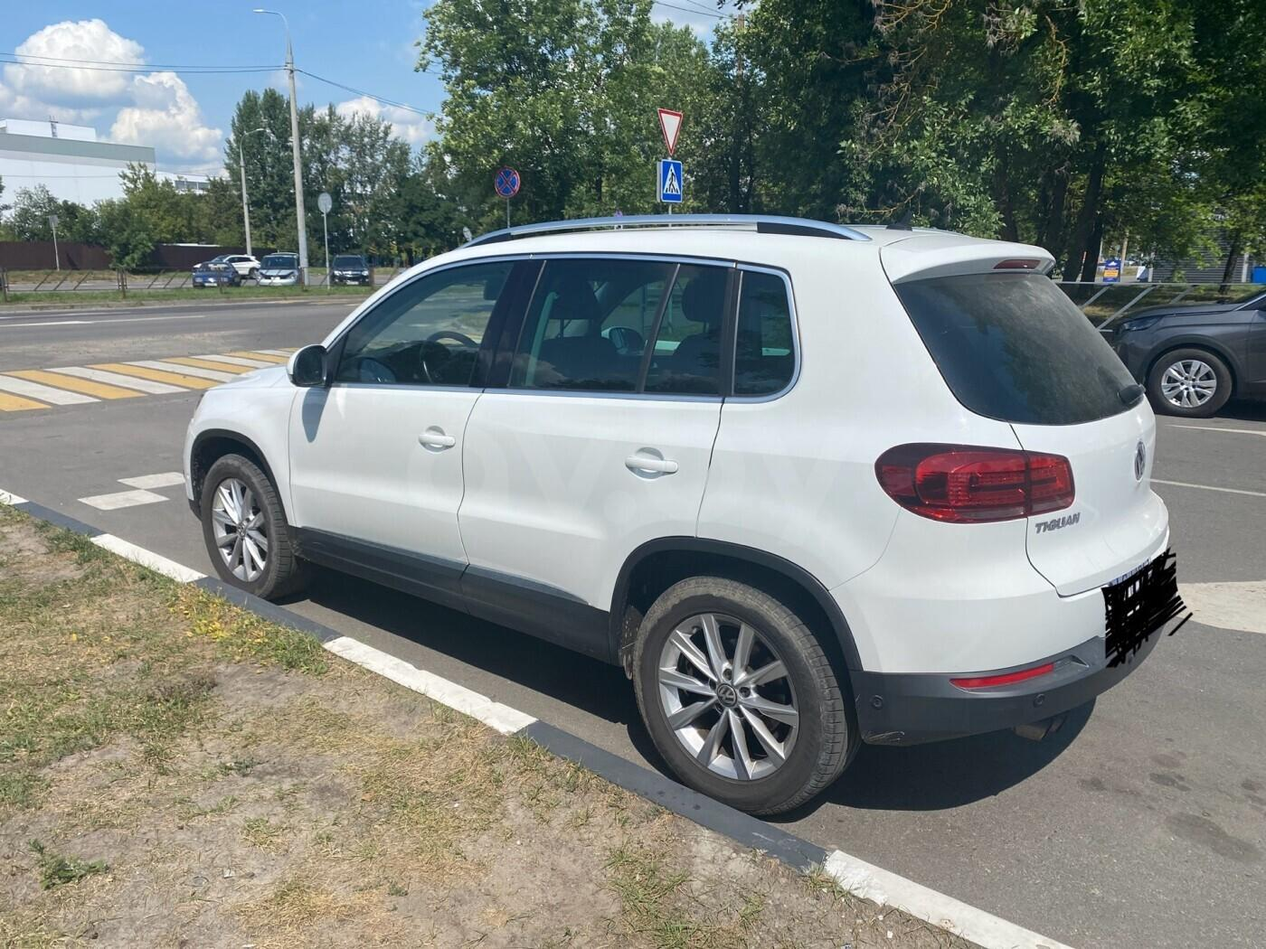Tiguan_2011-2018: (176, 212, 1181, 830)
